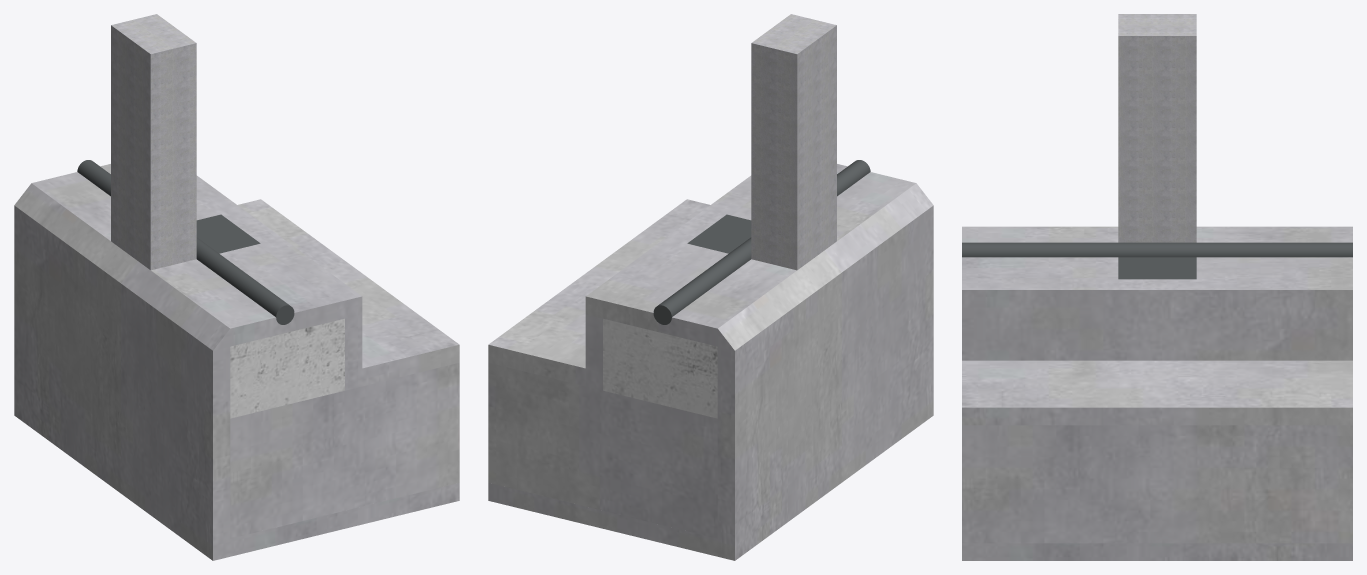
File: balcony-railing-weld.glb
The picture shows the model from 3 angles, left to right: view 1: azimuth 30°, elevation 25°; view 2: azimuth 150°, elevation 25°; view 3: azimuth 270°, elevation 25°; orthographic projection.
Parts seen in each view (by area): view 1: 饰面包覆, 阳台板, 栏杆脚, 现浇挡水带, 通长联系钢筋, 预埋板; view 2: 饰面包覆, 阳台板, 栏杆脚, 现浇挡水带, 通长联系钢筋, 预埋板; view 3: 饰面包覆, 阳台板, 栏杆脚, 通长联系钢筋, 预埋板.
Part boxes in pixels (x1,y1,x2,y2): 饰面包覆: [14, 164, 459, 560]; 阳台板: [230, 363, 459, 538]; 栏杆脚: [111, 14, 196, 270]; 现浇挡水带: [230, 318, 344, 418]; 通长联系钢筋: [77, 160, 294, 324]; 预埋板: [196, 214, 260, 253]; 饰面包覆: [488, 164, 933, 560]; 阳台板: [488, 363, 717, 538]; 栏杆脚: [751, 14, 836, 270]; 现浇挡水带: [603, 318, 717, 418]; 通长联系钢筋: [653, 160, 870, 324]; 预埋板: [687, 214, 751, 253]; 饰面包覆: [962, 226, 1352, 560]; 阳台板: [962, 425, 1352, 543]; 栏杆脚: [1118, 14, 1196, 242]; 通长联系钢筋: [962, 242, 1352, 257]; 预埋板: [1118, 257, 1196, 279].
Size of the model in its own units: 0.215 by 0.37 by 0.3.
4 materials, 3 textured.
